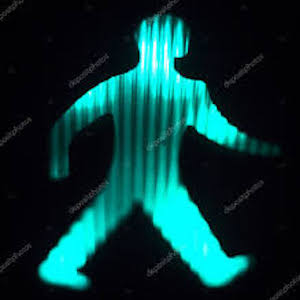green: (36, 13, 262, 291)
